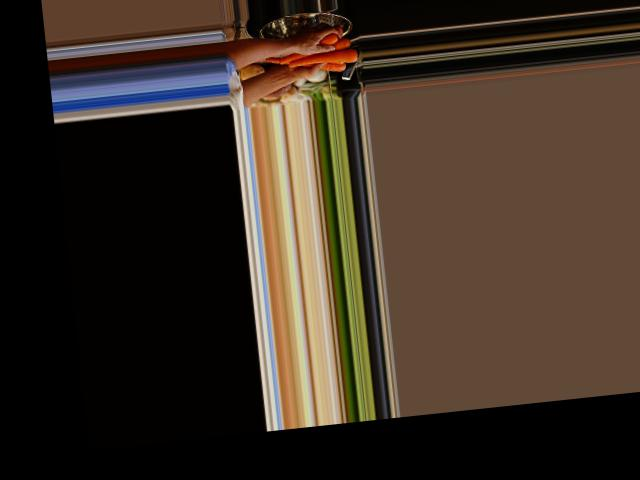carrot: (274, 39, 353, 67)
